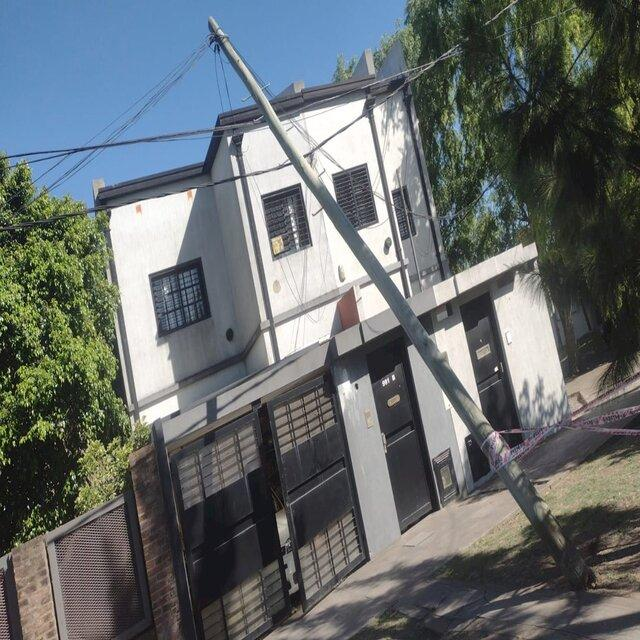Inclined Pole: (204, 14, 595, 581)
